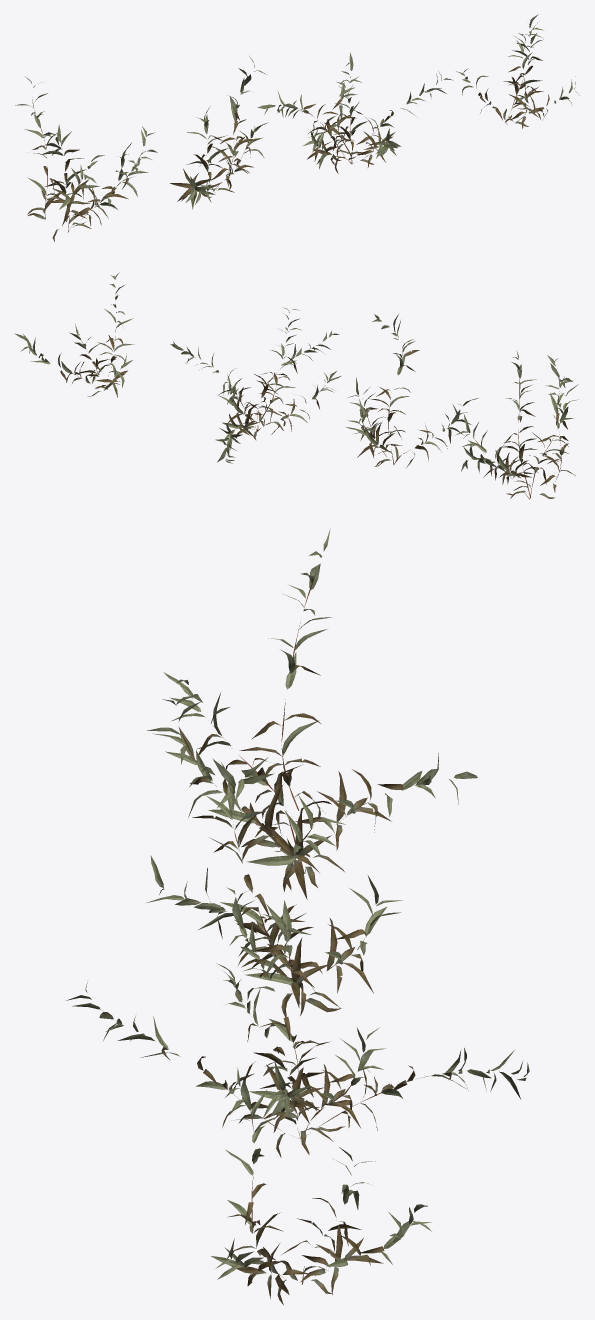
The model's file is shrub_02_lod2.glb.
3 renders of one model, top to bottom at view 1: azimuth 30°, elevation 25°; view 2: azimuth 150°, elevation 25°; view 3: azimuth 270°, elevation 25°, orthographic. The views are drawn at different scales.
Parts seen in each view (by area): view 1: shrub_02_a; view 2: shrub_02_a; view 3: shrub_02_a.
Part boxes in pixels (x1,y1,x2,y2): shrub_02_a: [15, 14, 579, 241]; shrub_02_a: [14, 272, 578, 499]; shrub_02_a: [66, 529, 529, 1305].
Bounding box in the file's own units: 6.05 × 1.7 × 2.28.
Materials: 1 (1 with a texture image).
